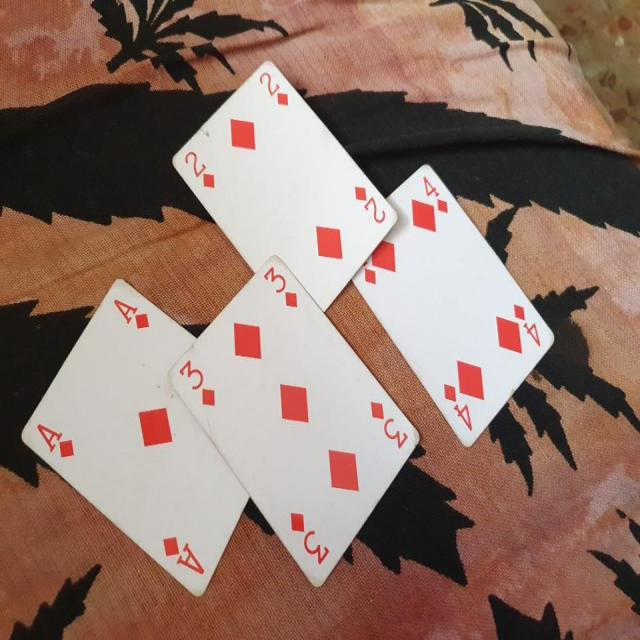2 Diamonds: (169, 60, 397, 320)
3 Diamonds: (164, 254, 420, 591)
4 Diamonds: (346, 156, 561, 448)
A Diamonds: (20, 276, 253, 604)
